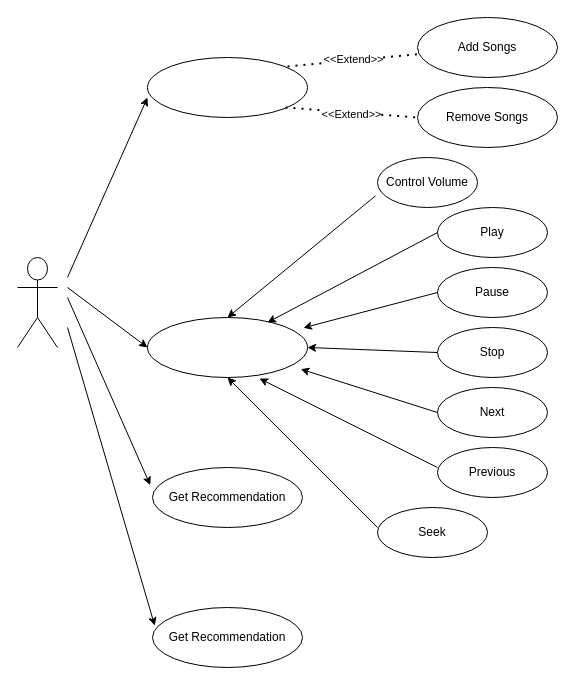
Some shapes in this 575 by 685 pixel diagram are drawn without their labels. Each missing label, with the box of its shape:
Actor: (16, 256, 58, 348)
Control Music: (146, 316, 308, 378)
Manage Songs: (146, 56, 308, 118)
